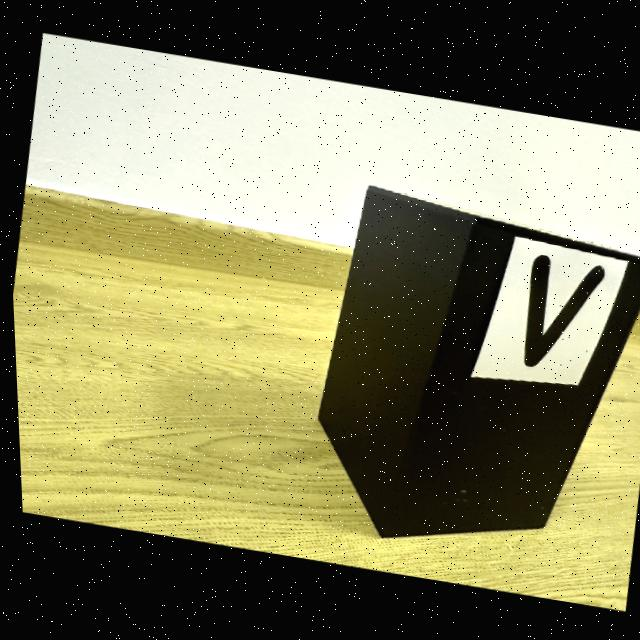V: (520, 255, 602, 367)
